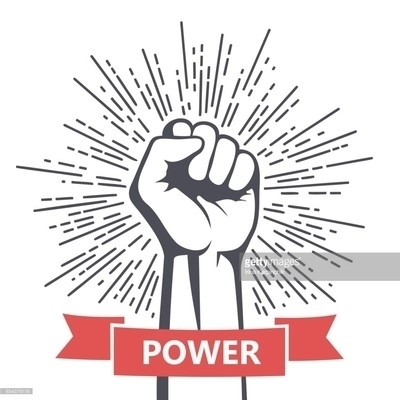closedhandfront: (128, 110, 270, 257)
